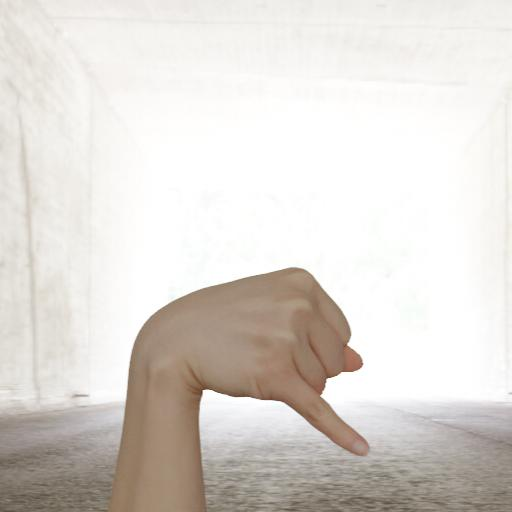J: (118, 256, 376, 464)
